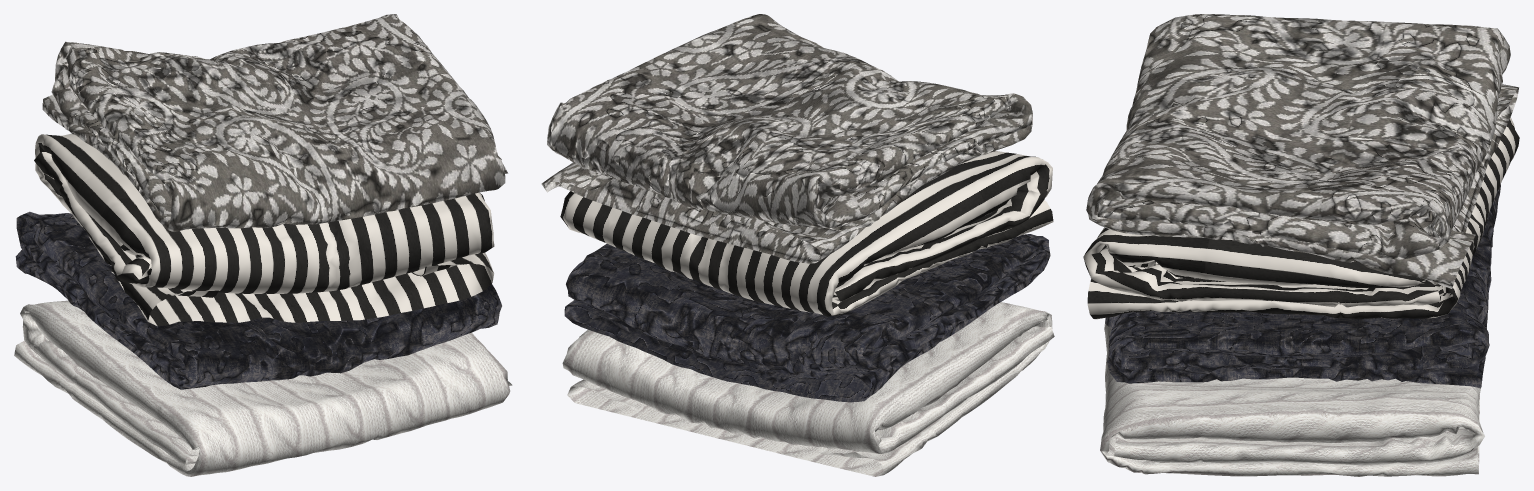
File: w5-shelf-stack-set_14_011.glb
3 views of the same model, side by side, from view 1: azimuth 30°, elevation 25°; view 2: azimuth 150°, elevation 25°; view 3: azimuth 270°, elevation 25° (orthographic). The views are drawn at different scales.
Parts seen in each view (by area): view 1: Shelf_set_14_011.002, Shelf_set_14_106, Shelf_set_14_011, Shelf_set_14_011.001; view 2: Shelf_set_14_011.002, Shelf_set_14_011.001, Shelf_set_14_011, Shelf_set_14_106; view 3: Shelf_set_14_011.002, Shelf_set_14_011, Shelf_set_14_011.001, Shelf_set_14_106.
Boxes of the visible parts, x1,y1,x2,y2 form: Shelf_set_14_011.002: (42,14,507,231); Shelf_set_14_106: (34,133,494,326); Shelf_set_14_011: (14,300,512,476); Shelf_set_14_011.001: (15,211,501,389); Shelf_set_14_011.002: (541,14,1032,263); Shelf_set_14_011.001: (564,234,1050,402); Shelf_set_14_011: (562,302,1054,476); Shelf_set_14_106: (560,151,1053,316); Shelf_set_14_011.002: (1086,14,1518,288); Shelf_set_14_011: (1100,318,1484,476); Shelf_set_14_011.001: (1105,184,1500,388); Shelf_set_14_106: (1083,117,1519,319).
Size of the model in its own units: 0.3245 by 0.2401 by 0.3012.
Materials: 4 (4 with a texture image).
